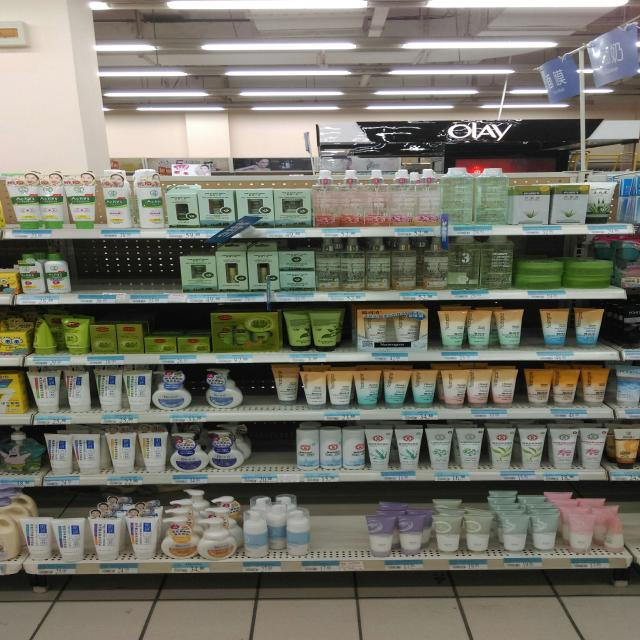empty: (71, 245, 180, 292), (307, 486, 369, 550), (244, 423, 299, 473), (242, 367, 276, 403)
